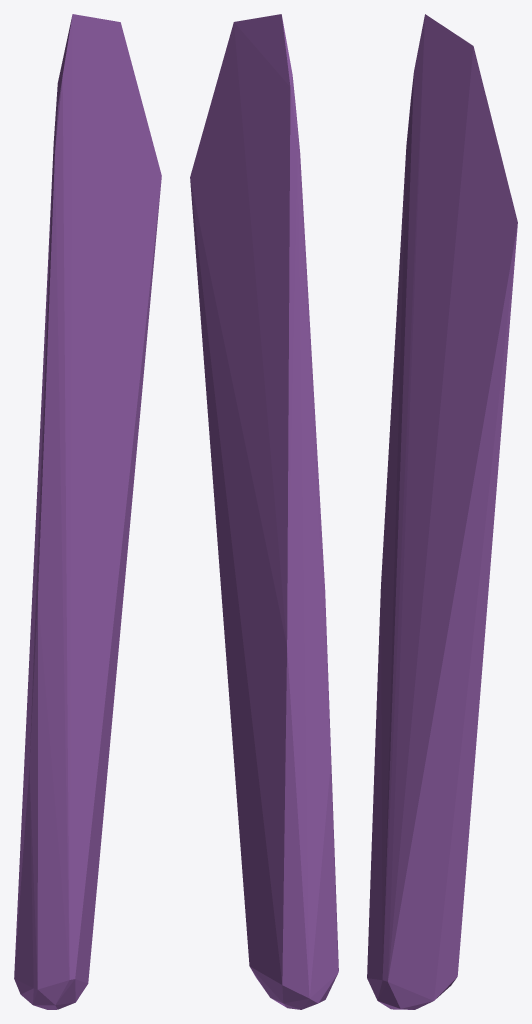
Rendered from kitchenware_knife_x01.glb.
The picture shows the model from 3 angles, left to right: view 1: azimuth 30°, elevation 25°; view 2: azimuth 150°, elevation 25°; view 3: azimuth 330°, elevation 25°; orthographic projection.
Visible parts, largest first — view 1: geometry_0; view 2: geometry_0; view 3: geometry_0.
Part boxes in pixels (box(x1,y1,x2,y2)): geometry_0: box(14, 14, 161, 1009); geometry_0: box(190, 14, 338, 1009); geometry_0: box(367, 14, 517, 1009).
Size of the model in its own units: 0.0656 by 0.447 by 0.0345.
